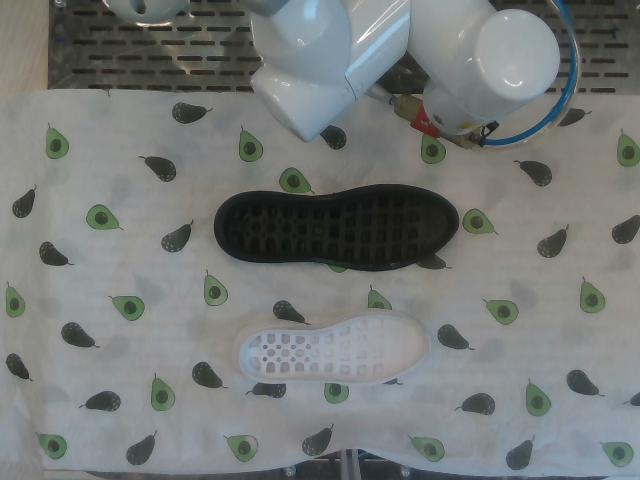shoes: (223, 190, 458, 265), (241, 317, 429, 383)
